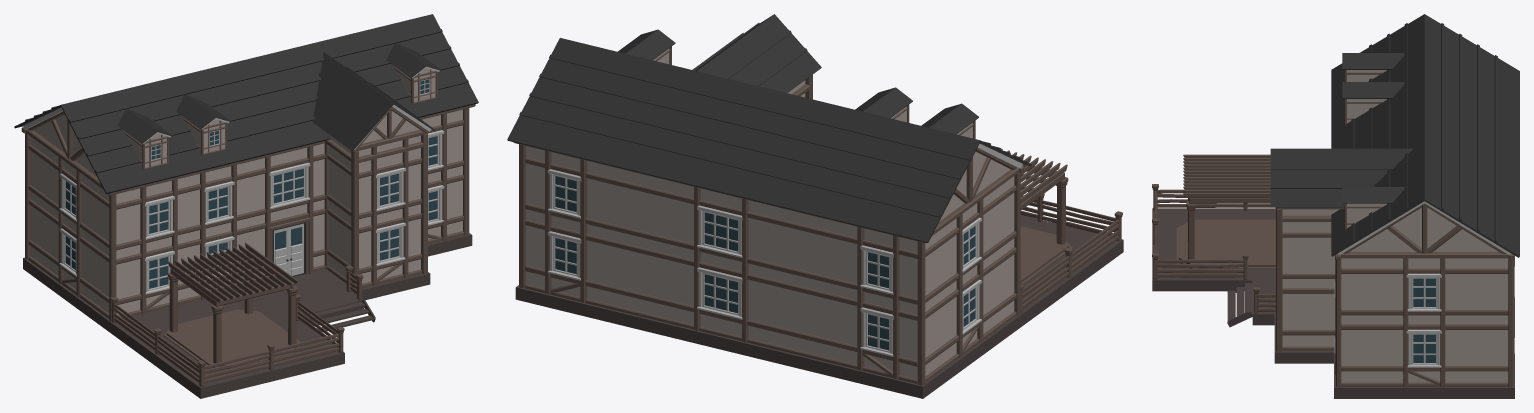
The model's file is house_01.glb.
3 views of the same model, side by side, from view 1: azimuth 30°, elevation 25°; view 2: azimuth 150°, elevation 25°; view 3: azimuth 270°, elevation 25° (orthographic). The views are drawn at different scales.
Parts seen in each view (by area): view 1: house_01; view 2: house_01; view 3: house_01.
Part boxes in pixels (x1,y1,x2,y2): house_01: (14, 14, 478, 398); house_01: (507, 14, 1123, 398); house_01: (1152, 14, 1519, 398).
Size of the model in its own units: 17.96 by 9.25 by 15.06.
1 material, 1 textured.
